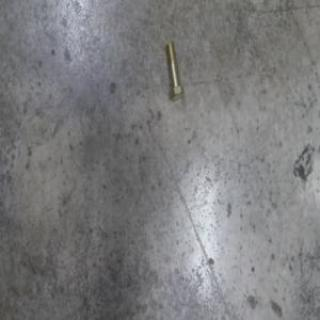Bolttrack_idkeyframe: (165, 40, 184, 100)
